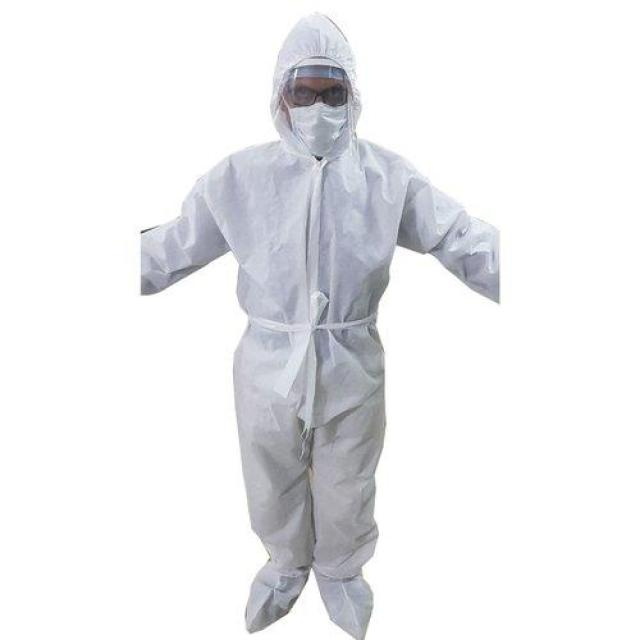Coverall: (138, 10, 502, 639)
Mask: (288, 103, 355, 145)
